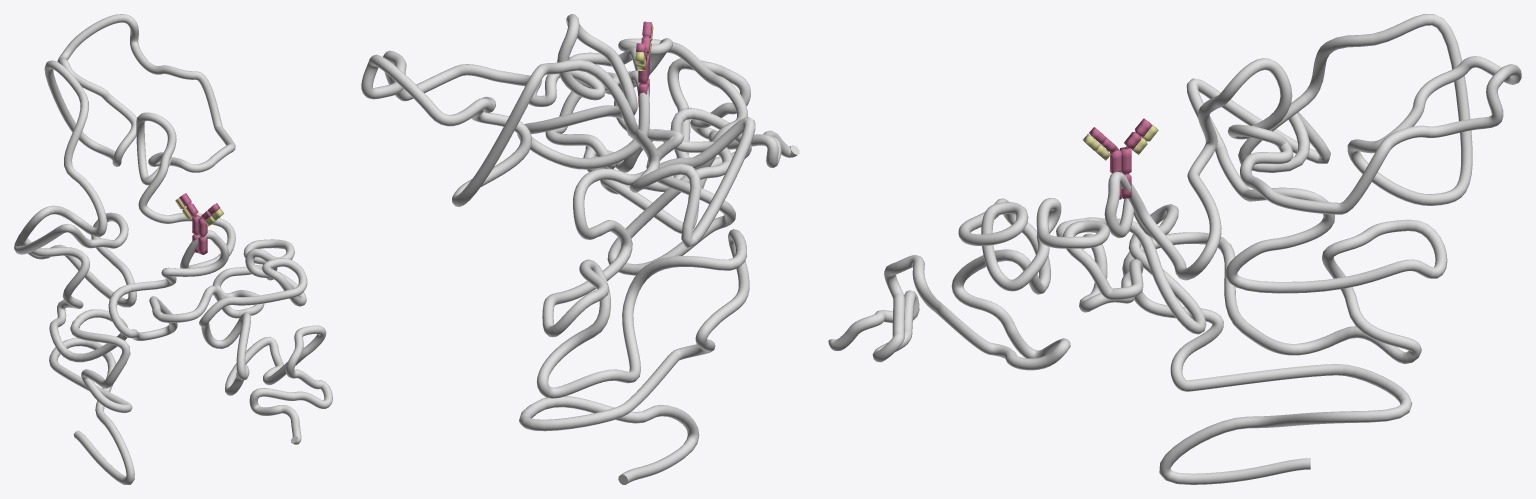
File: box_for_website.glb
3 renders of one model, left to right at view 1: azimuth 30°, elevation 25°; view 2: azimuth 150°, elevation 25°; view 3: azimuth 270°, elevation 25°, orthographic. The views are drawn at different scales.
Parts seen in each view (by area): view 1: BézierCurve, antibody; view 2: BézierCurve, antibody; view 3: BézierCurve, antibody.
Part boxes in pixels (x1,y1,x2,y2): BézierCurve: (14, 14, 332, 484); antibody: (175, 193, 223, 254); BézierCurve: (361, 14, 799, 484); antibody: (635, 21, 653, 107); BézierCurve: (828, 14, 1521, 484); antibody: (1083, 118, 1158, 199).
Size of the model in its own units: 17.44 by 27.19 by 34.81.
